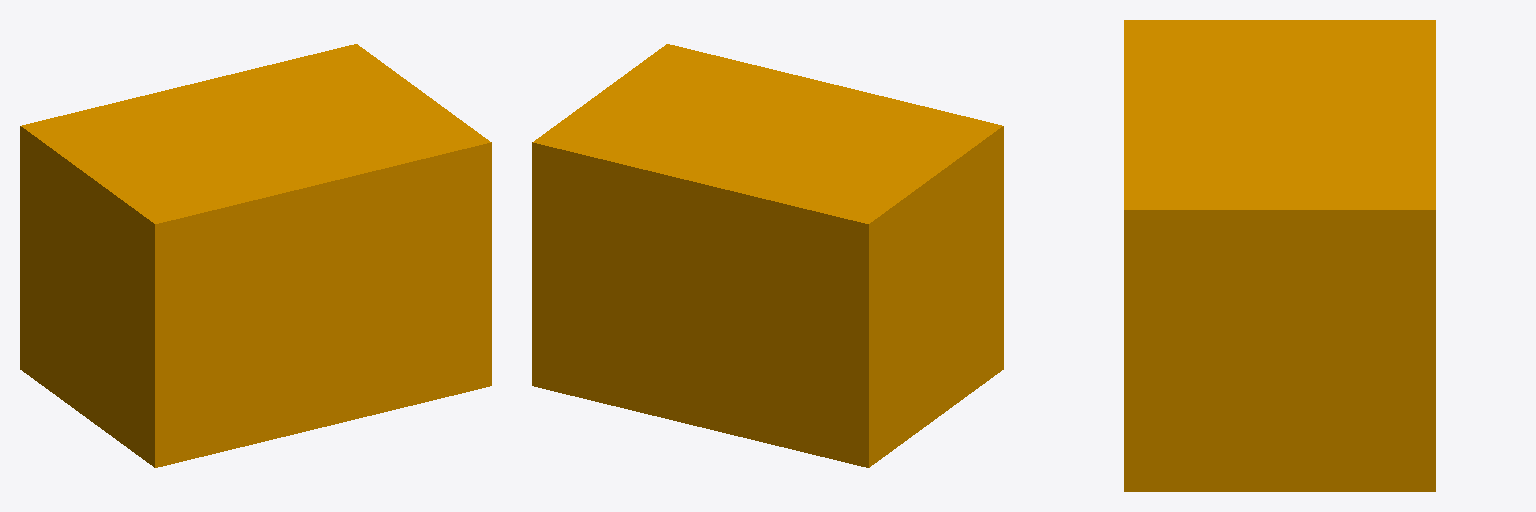
robot.urdf — object:
<?xml version="1.0"?>
<!-- Auto-generated by tools/gen_primitive_objects.py. kind=box dims=(0.08728, 0.060619, 0.060482) -->
<robot name="object">
  <link name="object">
    <visual>
      <origin xyz="0 0 0"/>
      <geometry>
        <box size="0.087280 0.060619 0.060482"/>
      </geometry>
    </visual>
    <collision>
      <origin xyz="0 0 0"/>
      <geometry>
        <box size="0.087280 0.060619 0.060482"/>
      </geometry>
    </collision>
    <inertial>
      <mass value="0.064000"/>
      <inertia ixx="0.00003911" ixy="0.0" ixz="0.0" iyy="0.00006014" iyz="0.0" izz="0.00006023"/>
    </inertial>
  </link>
</robot>

--- Render facts (derived) ---
Views: 3 orthographic renders of the robot side by side, from view 1: azimuth 30°, elevation 25°; view 2: azimuth 150°, elevation 25°; view 3: azimuth 270°, elevation 25°.
Model object with 1 links and 0 joints (none), rooted at object, posed every joint at zero.
Visible links, largest first — view 1: object; view 2: object; view 3: object.
Link boxes in pixels (bbox=[...]): object: bbox=[20, 44, 491, 467]; object: bbox=[532, 44, 1003, 467]; object: bbox=[1124, 20, 1435, 491].
Size in the robot's own frame: 0.0873 by 0.0606 by 0.0605 metres.
Geometry: primitives only (box / cylinder / sphere), no mesh files.
